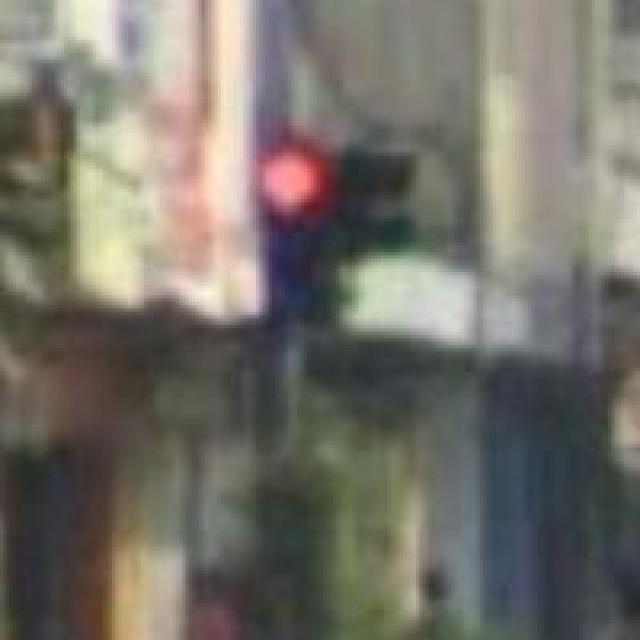red_light: (259, 143, 332, 338)
